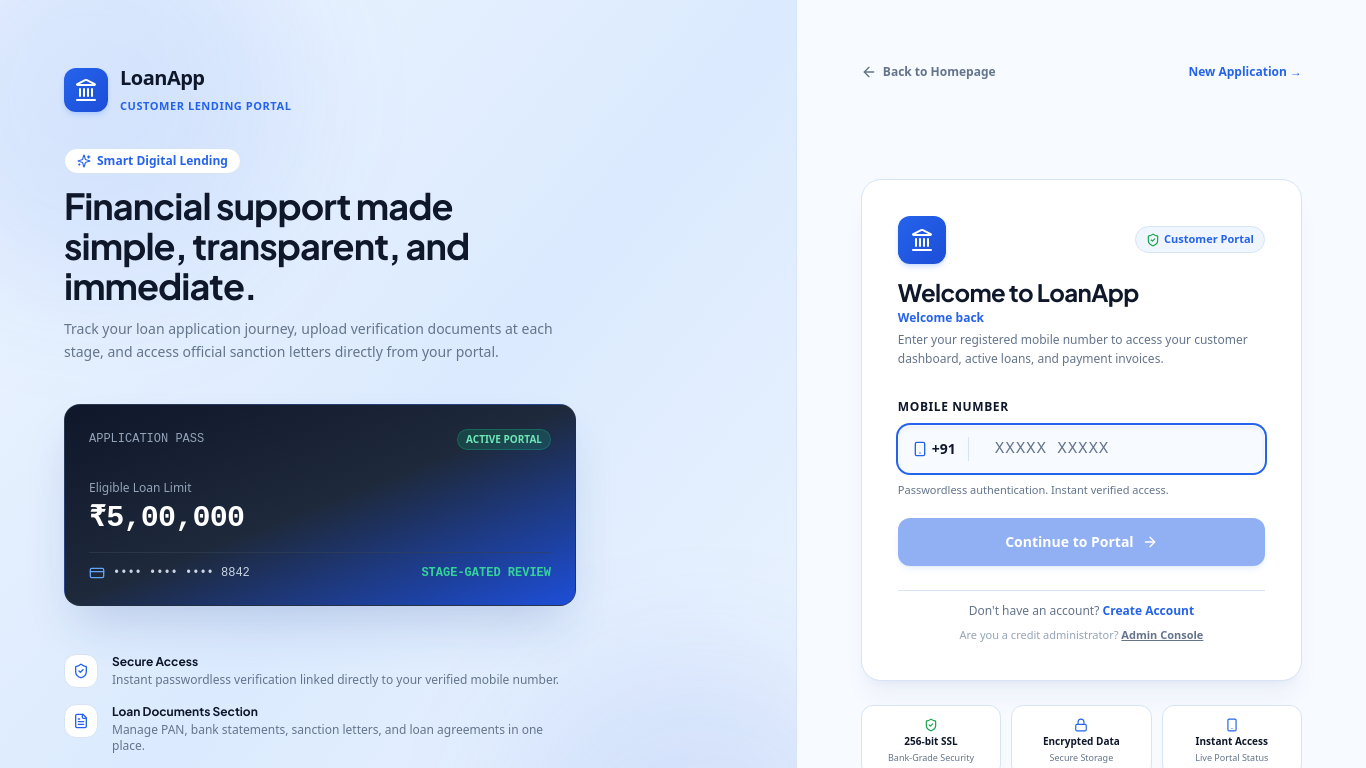
Scenario: Frontend Authentication Flow › Customer Login Screen › enforces 10-digit mobile number input length and button disabled state
Check: the button "Continue to Portal" is disabled, box [898,518,1265,566]
Type "98765" into the field labelled "Mobile Number" at (1081, 449), box [898,425,1265,473]
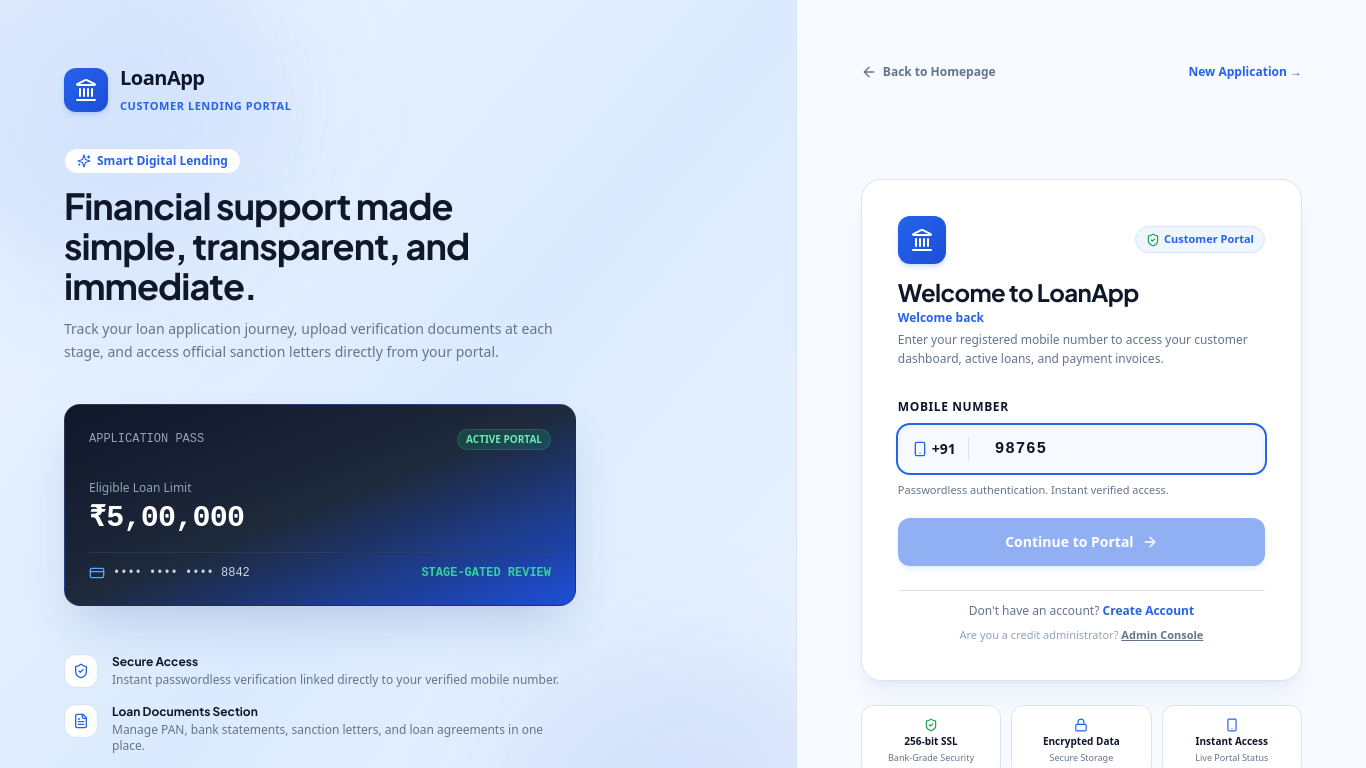
Check: the button "Continue to Portal" is disabled, box [898,518,1265,566]
Replace the text in the field labelled "Mobile Number" with "9876543210" at (1081, 449), box [898,425,1265,473]
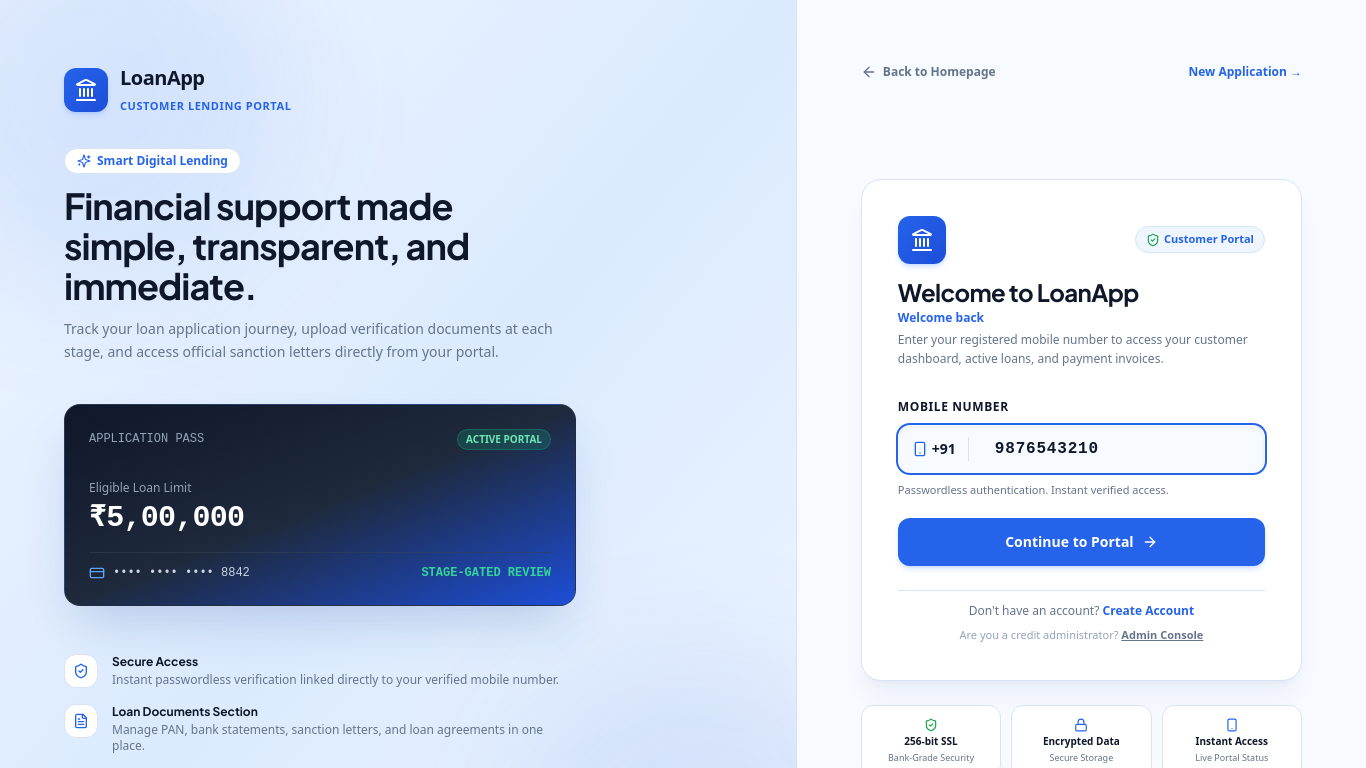
Check: the button "Continue to Portal" is enabled, box [898,518,1265,566]
